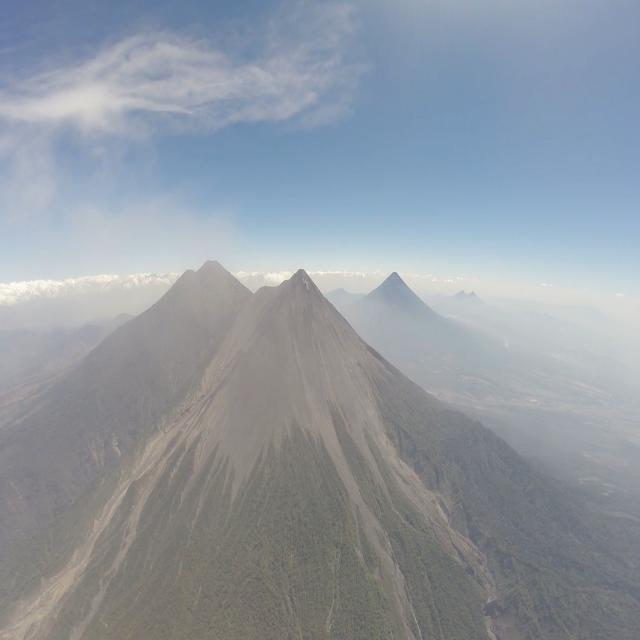Summit: (280, 266, 322, 292)
